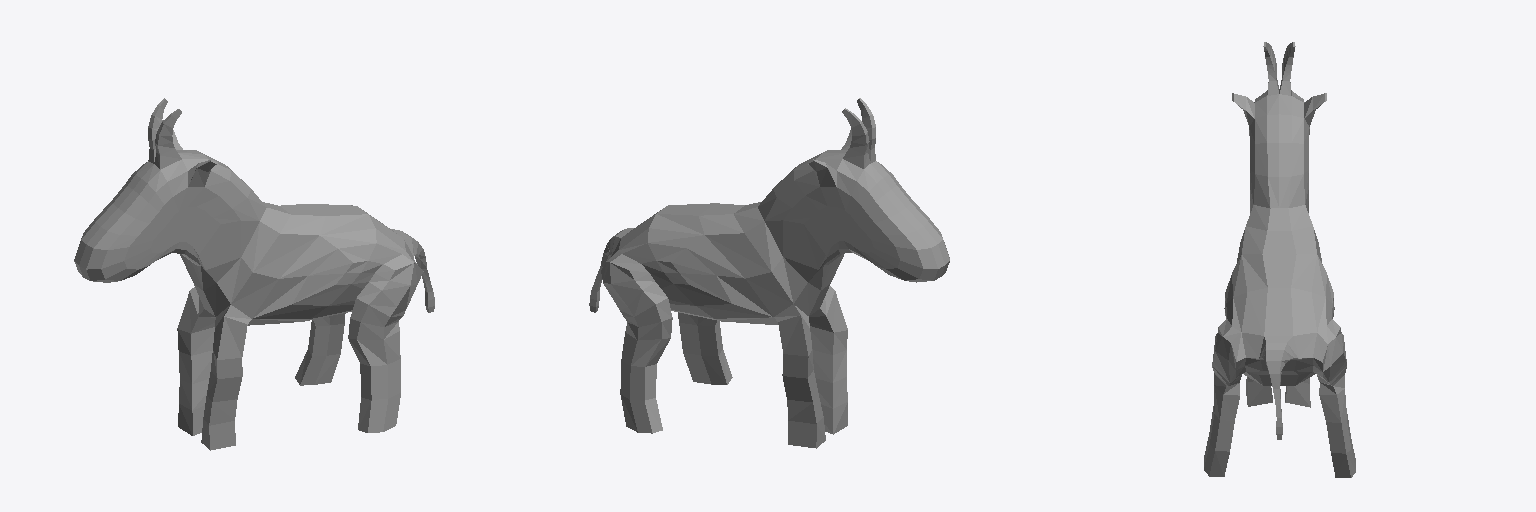
File: Goat.obj
3 renders of one model, left to right at view 1: azimuth 30°, elevation 25°; view 2: azimuth 150°, elevation 25°; view 3: azimuth 270°, elevation 25°, orthographic.
Parts seen in each view (by area): view 1: Cube; view 2: Cube; view 3: Cube.
Part boxes in pixels (x1,y1,x2,y2): Cube: (74,98,434,450); Cube: (589,98,949,448); Cube: (1204,42,1355,477).
Size of the model in its own units: 1.3 by 1.21 by 0.4842.